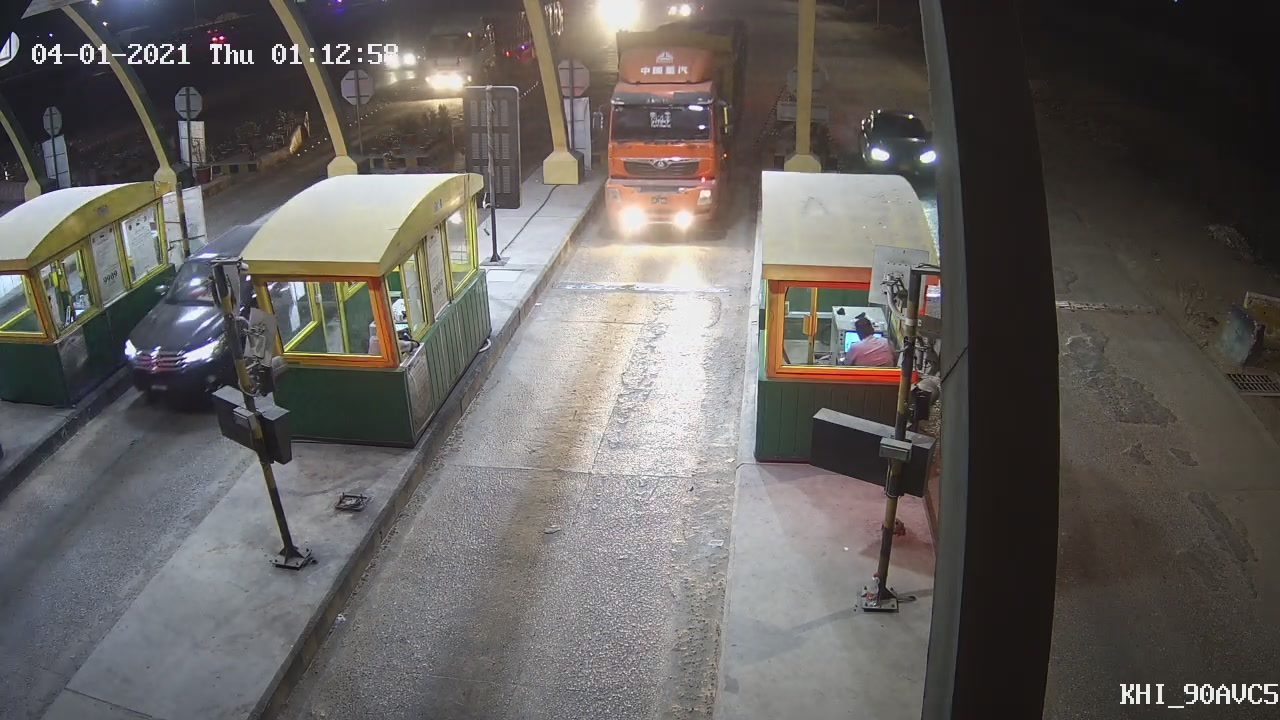F5: (575, 20, 750, 249)
